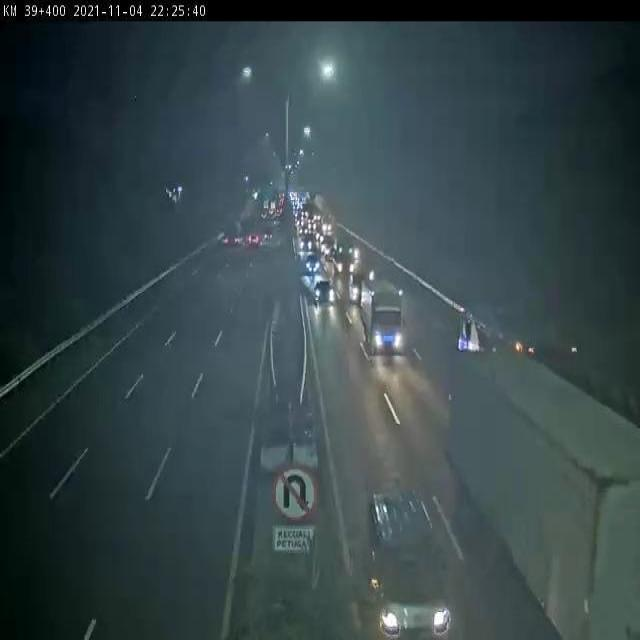Car: (369, 489, 454, 640), (312, 279, 335, 303), (305, 255, 321, 274)
Truck: (449, 348, 640, 640), (359, 278, 404, 355)
